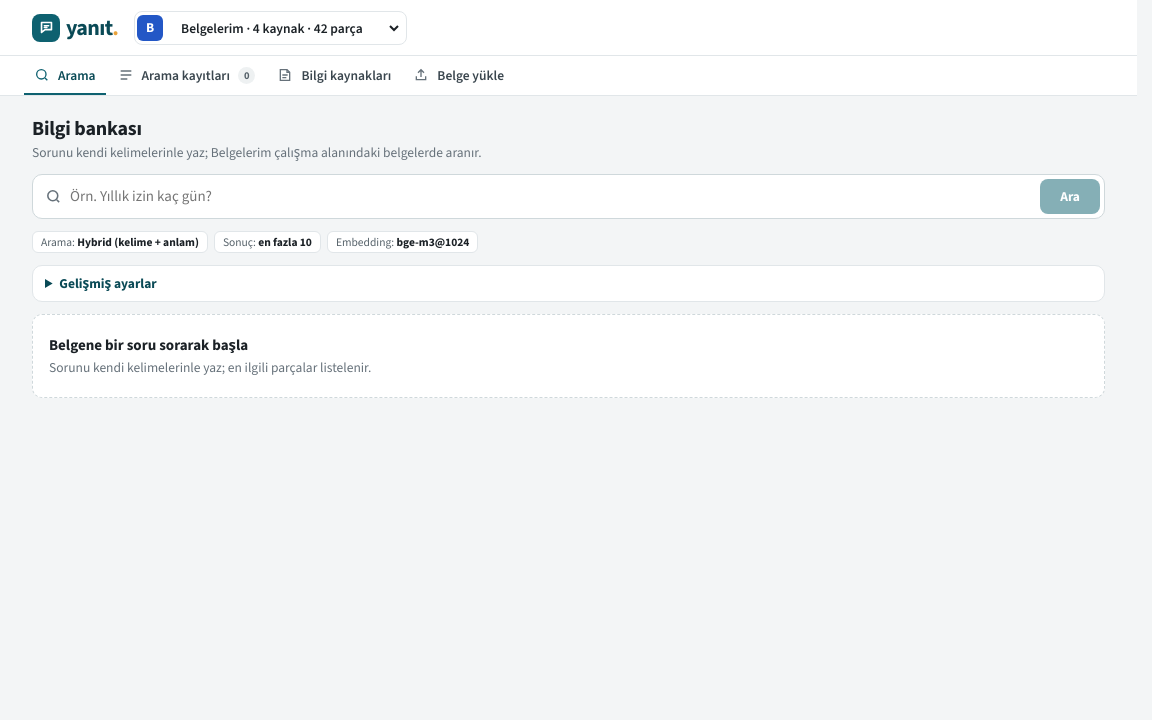
Scenario: SearchPage › givenPopularQueriesFail_whenOpenSearchPage_thenHidesSuggestionsAndSearchWorks
The image size is (1152, 720).
Type "izin" into the field named "Arama metni" at [551, 196], box [70, 180, 1032, 213]
Then press Enter
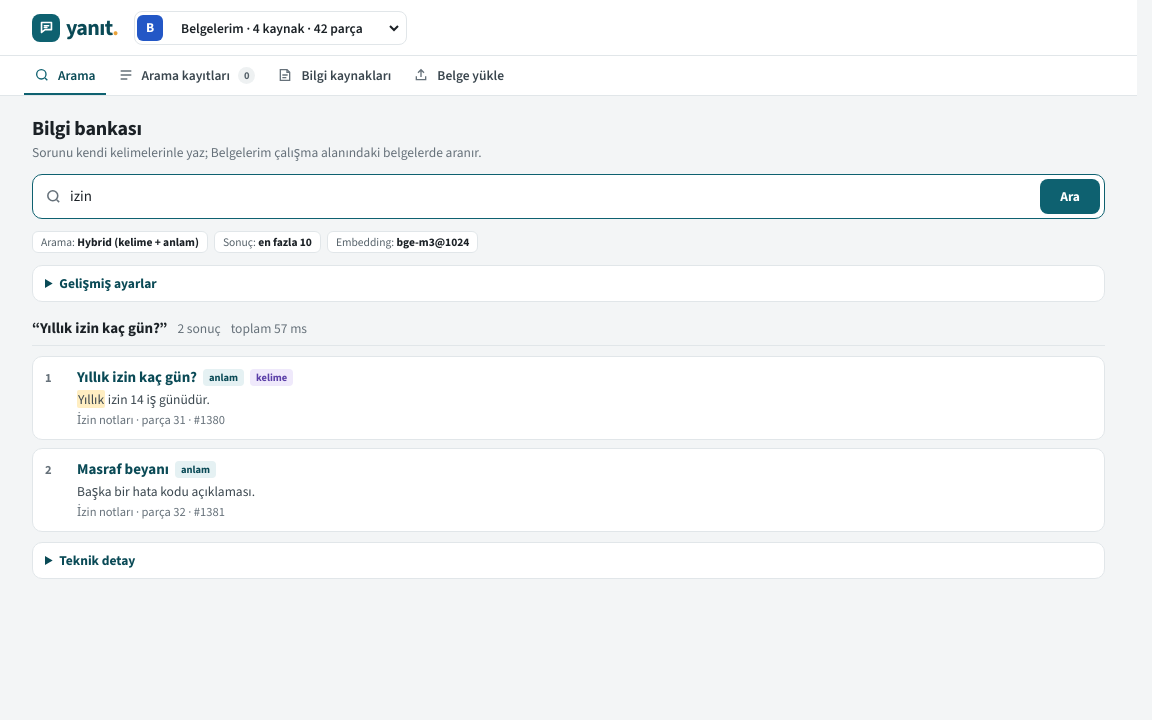
Expected: the text "2 sonuç" is shown, [177, 319, 221, 338]
